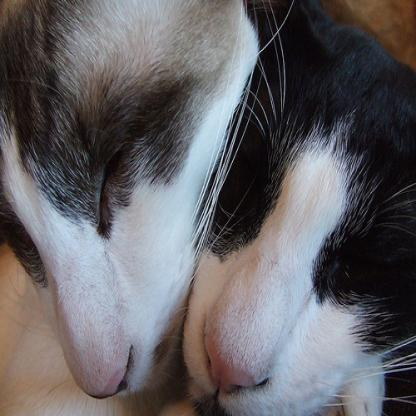cat: (0, 0, 260, 415), (184, 0, 415, 415)
